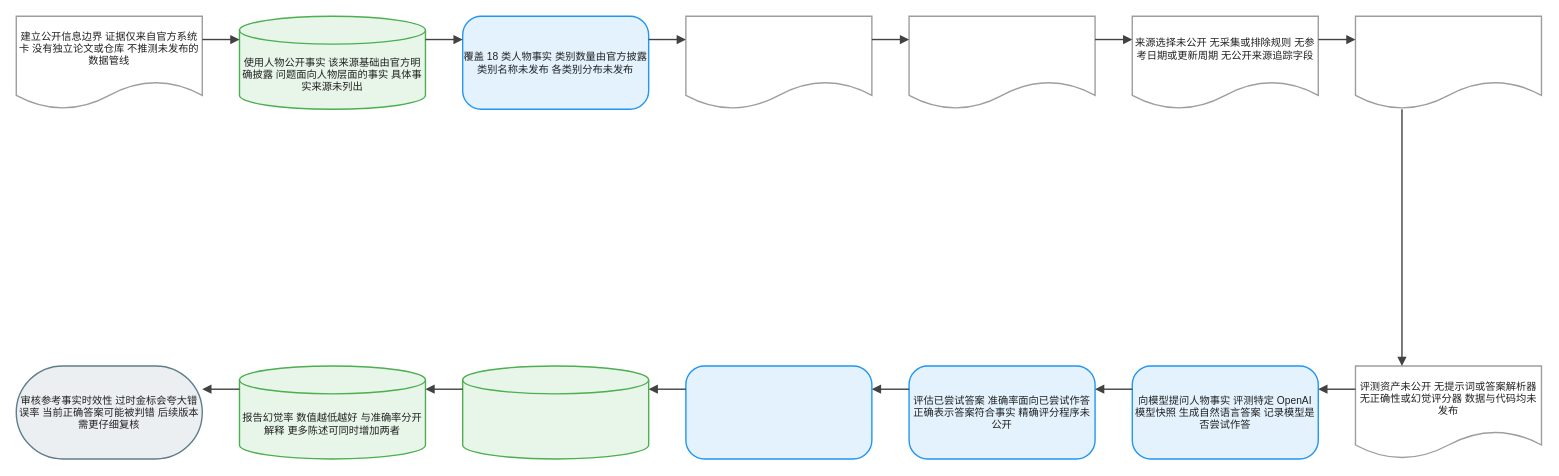
Image size: 1559x476. Some labels were removed from this diagram. Each missing label, with the centre of its shape:
形成人物事实问答记录 问题与参考事实配对 只披露了高层数据组成 问题编写程序未公开: the point at 778,62
报告准确率 数值越高越好 比较不同模型快照 明确仅统计已尝试作答: the point at 555,412
标注协议未公开 无标注者资质信息 无独立复核或仲裁流程 无质量控制统计: the point at 1448,62
样本数量未公开 无训练验证测试规模 无人物数或问题总数 无公开划分策略: the point at 1001,62
识别幻觉答案 检查模型产生幻觉的频率 幻觉率越低越好 精确标注程序未公开: the point at 778,412
